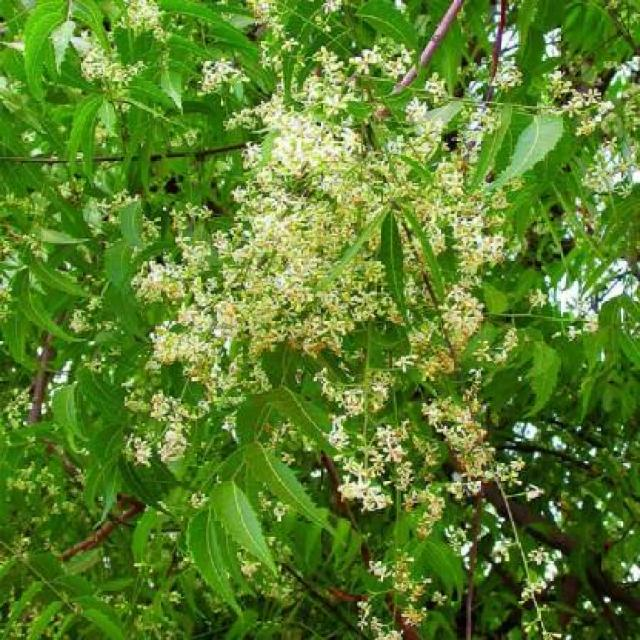Medicinal-Neem: (31, 18, 487, 583)
